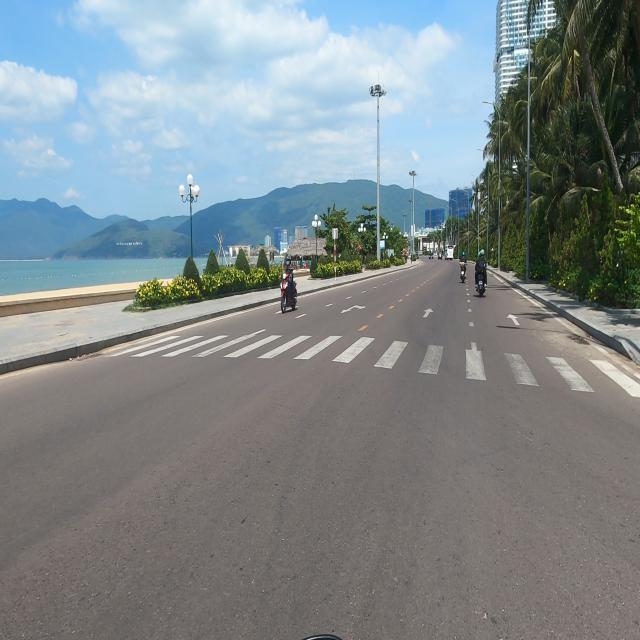walk-crossing: (110, 322, 640, 404)
